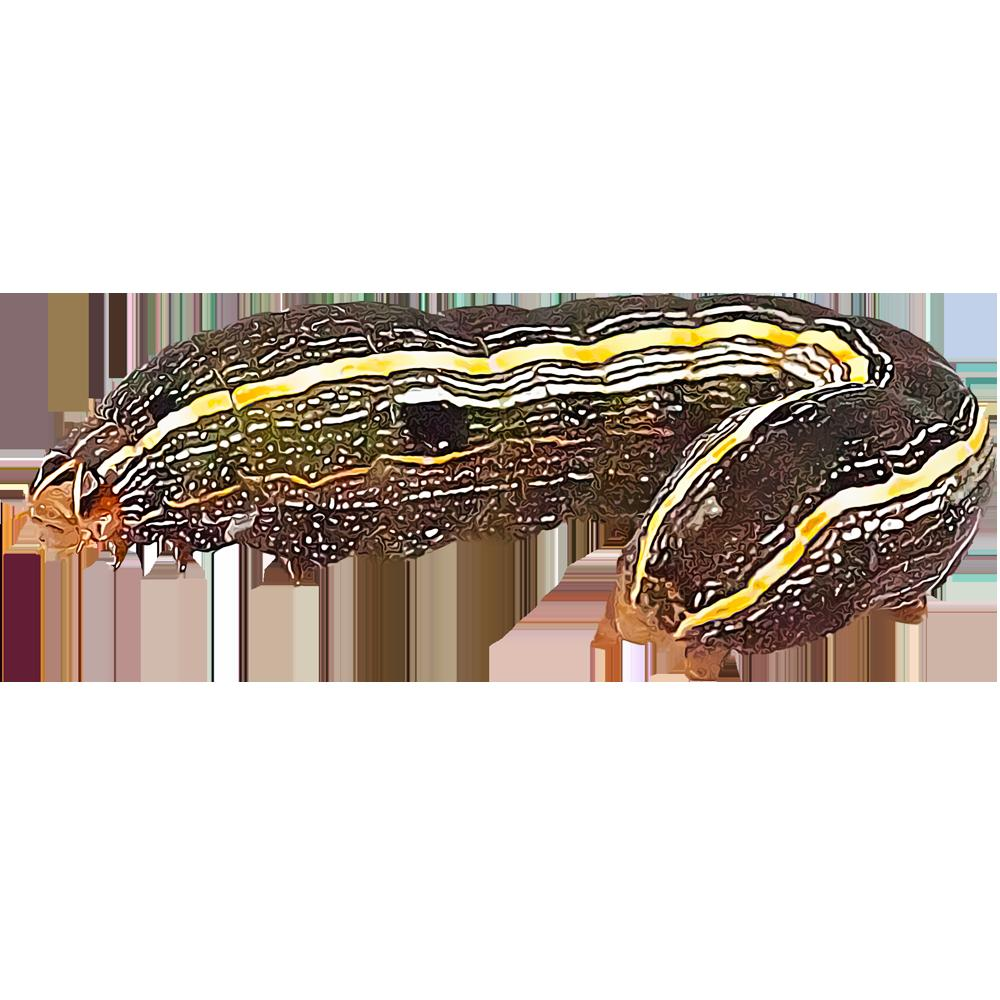Armyworm: (1, 271, 986, 761)
